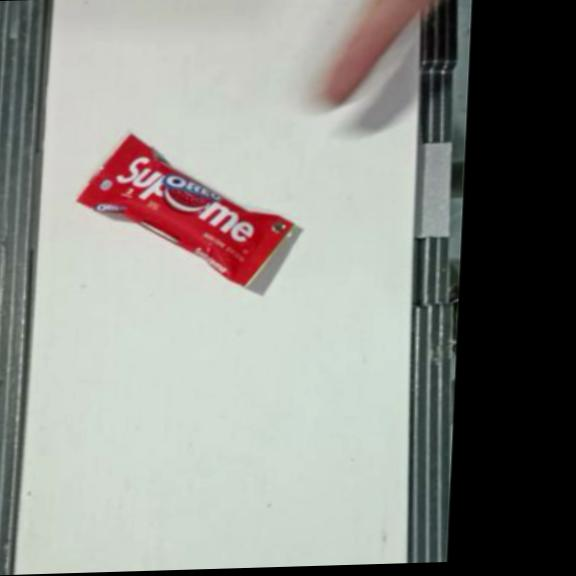Plastik: (72, 127, 301, 292)
